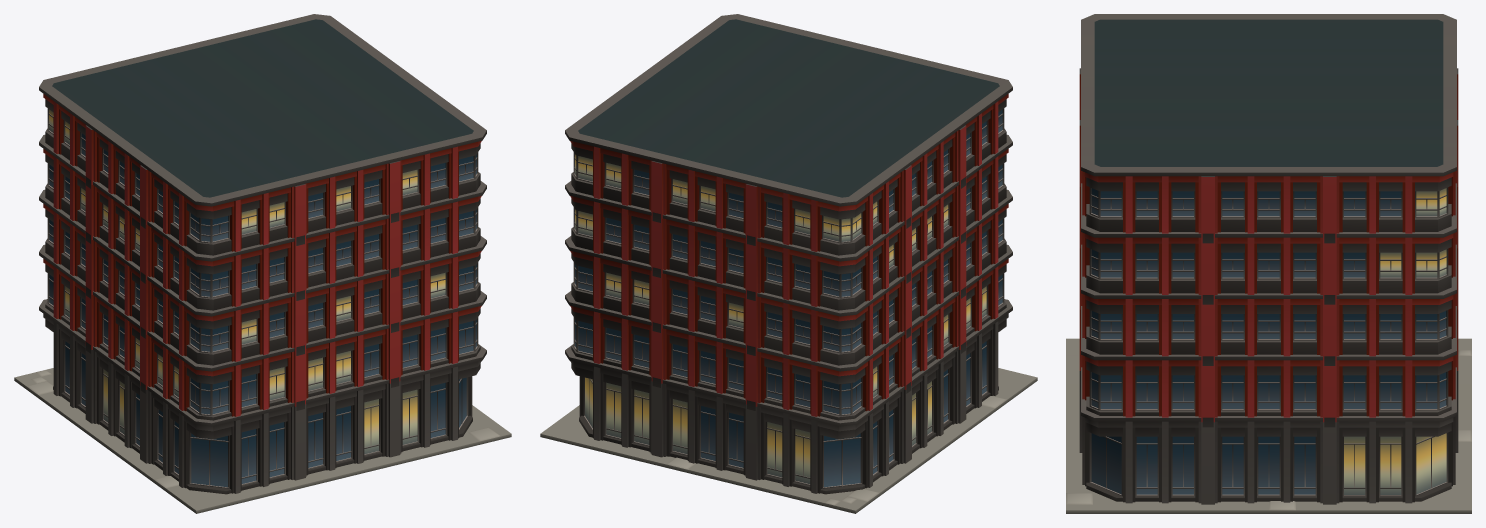
Rendered from Building_14B.fbx.
The picture shows the model from 3 angles, left to right: view 1: azimuth 30°, elevation 25°; view 2: azimuth 150°, elevation 25°; view 3: azimuth 270°, elevation 25°; orthographic projection. The views are drawn at different scales.
Visible parts, largest first — view 1: Building_14B, Window_Lights_14B; view 2: Building_14B, Window_Lights_14B; view 3: Building_14B, Window_Lights_14B.
Boxes of the visible parts, x1=… form: Building_14B: x1=14, y1=14, x2=511, y2=513; Window_Lights_14B: x1=49, y1=109, x2=445, y2=454; Building_14B: x1=540, y1=14, x2=1037, y2=513; Window_Lights_14B: x1=575, y1=154, x2=986, y2=483; Building_14B: x1=1066, y1=14, x2=1471, y2=513; Window_Lights_14B: x1=1344, y1=188, x2=1446, y2=494.
Bounding box in the file's own units: 30 × 27.32 × 30.
